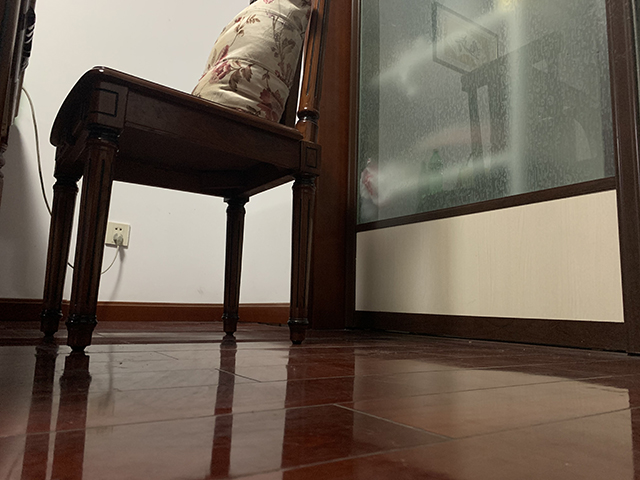stool: (33, 1, 327, 353)
